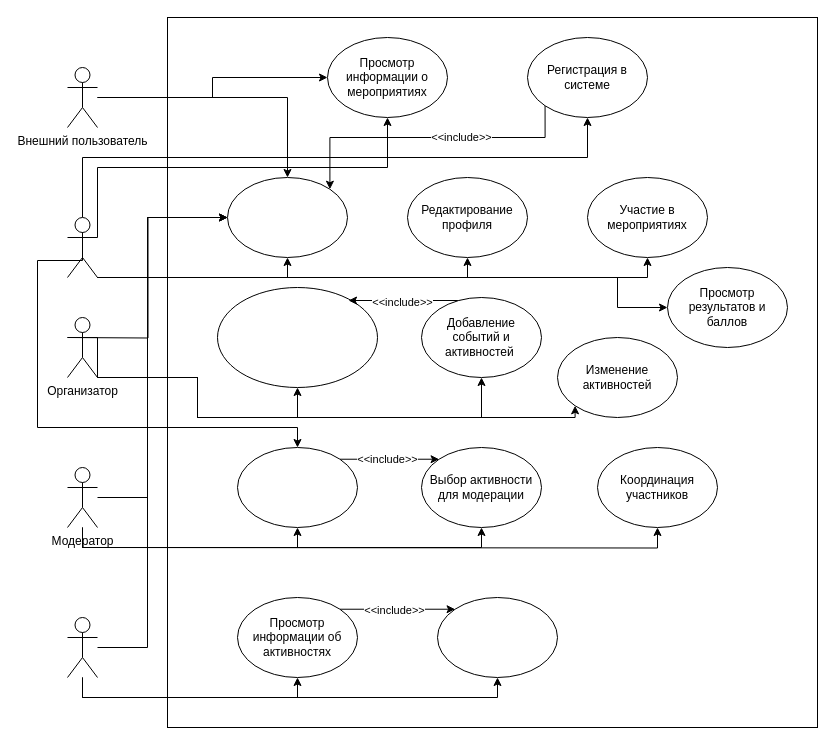
Some shapes in this 835 by 745 pixel diagram are drawn without their labels. Here are the shapes that lost their labels. From the top down, the box of each, then its label:
(226, 176, 348, 258): Авторизация в системе
(66, 216, 98, 278): Участник
(216, 286, 378, 388): Управление мероприятиями, участниками, модераторами, жюри
(236, 446, 358, 528): Регистрация на мероприятие
(66, 616, 98, 678): Жюри
(436, 596, 558, 678): Оценка участников
